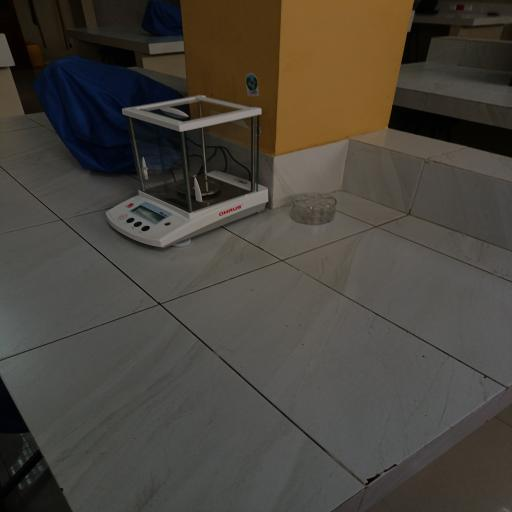Balanza_Analitica_Ohaus: (100, 91, 276, 257)
